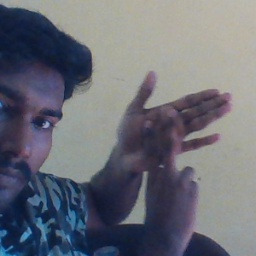N: (109, 70, 234, 215)
